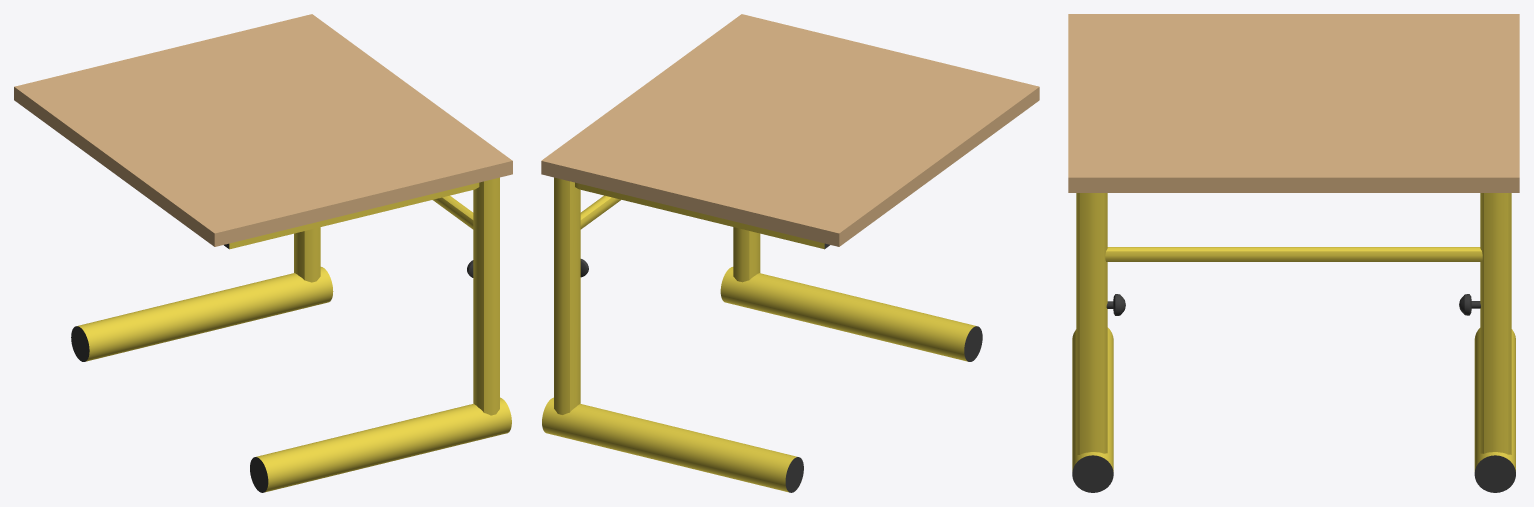
File: table.fbx
The picture shows the model from 3 angles, left to right: view 1: azimuth 30°, elevation 25°; view 2: azimuth 150°, elevation 25°; view 3: azimuth 270°, elevation 25°; orthographic projection. The views are drawn at different scales.
Parts seen in each view (by area): view 1: Cube; view 2: Cube; view 3: Cube.
Boxes of the visible parts, left/top/right/bottom form: Cube: left=14, top=14, right=512, bottom=492; Cube: left=541, top=14, right=1039, bottom=492; Cube: left=1068, top=14, right=1519, bottom=492.
Bounding box in the file's own units: 1.12 × 1.3 × 1.
